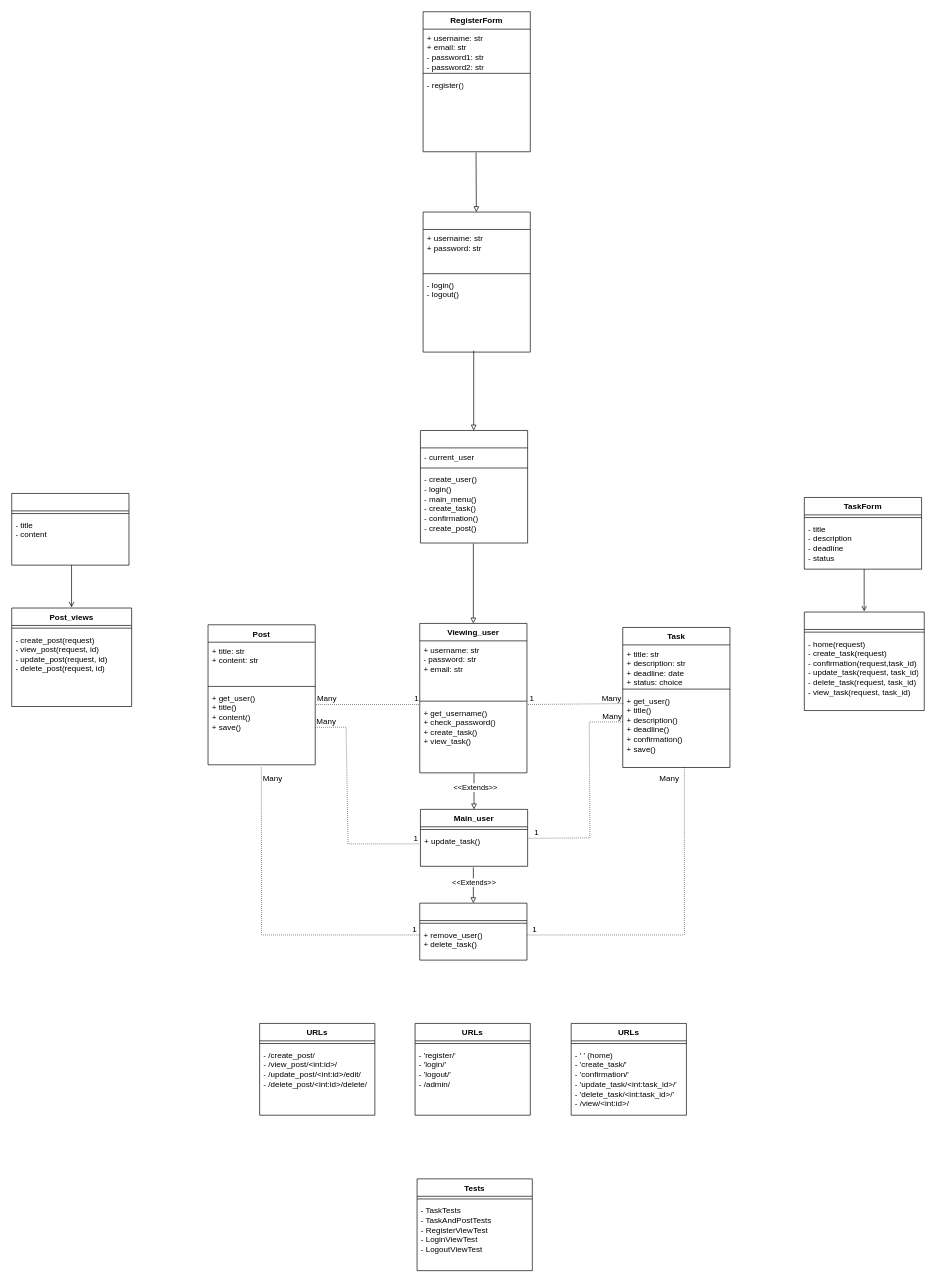
The diagram is 936 pixels wide and 1284 high, and some of its shapes have lost their labels. Here are the shapes that lost their labels. From the top down, the box of each, then its label:
(422, 211, 530, 352): Authentication
(420, 430, 528, 543): Controller
(11, 493, 129, 565): PostForm
(804, 611, 924, 711): Task_views
(419, 902, 527, 960): Admin
